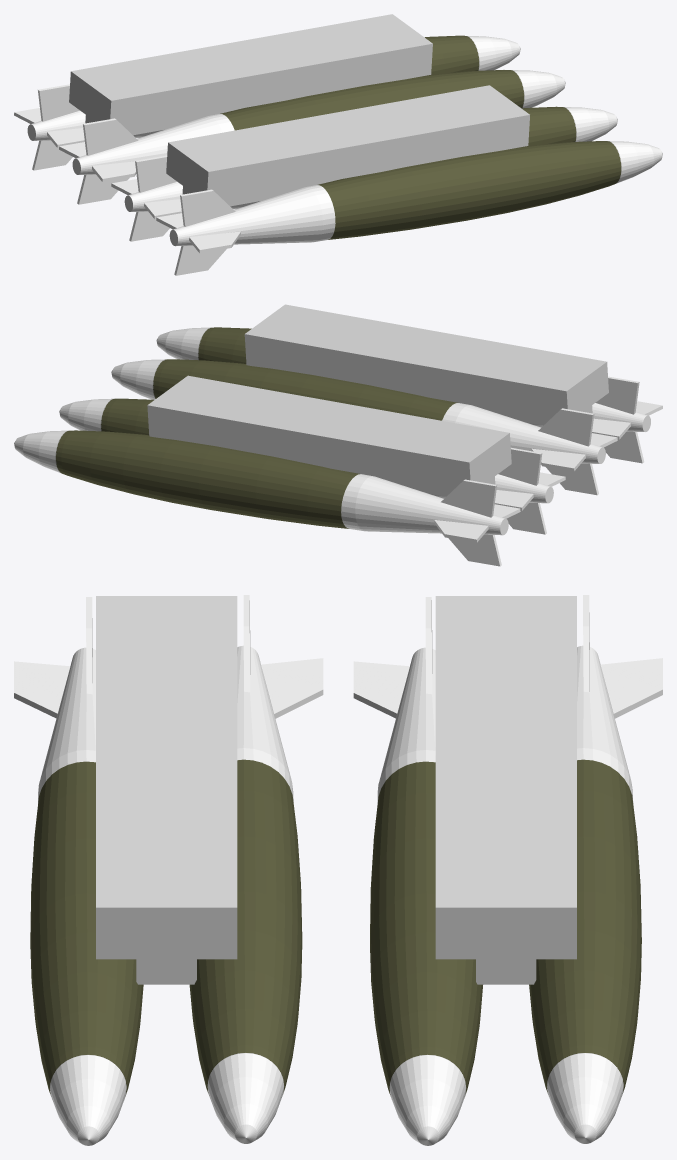
The model's file is f14bgbu3834.glb.
The picture shows the model from 3 angles, top to bottom: view 1: azimuth 30°, elevation 25°; view 2: azimuth 150°, elevation 25°; view 3: azimuth 270°, elevation 25°; orthographic projection. The views are drawn at different scales.
Parts seen in each view (by area): view 1: 円柱.004, 立方体.006, 立方体.003, 円柱.012, 円柱.011, 円柱.003; view 2: 円柱.011, 立方体.006, 立方体.003, 円柱.003, 円柱.004, 円柱.012; view 3: 立方体.003, 立方体.006, 円柱.012, 円柱.004, 円柱.003, 円柱.011.
Boxes of the visible parts, left/top/right/bottom form: 円柱.004: left=156, top=141, right=662, bottom=275; 立方体.006: left=69, top=14, right=432, bottom=135; 立方体.003: left=166, top=85, right=529, bottom=206; 円柱.012: left=59, top=70, right=565, bottom=204; 円柱.011: left=14, top=35, right=520, bottom=170; 円柱.003: left=111, top=106, right=617, bottom=241; 円柱.011: left=14, top=430, right=520, bottom=566; 立方体.006: left=147, top=375, right=511, bottom=496; 立方体.003: left=244, top=304, right=608, bottom=425; 円柱.003: left=111, top=359, right=617, bottom=495; 円柱.004: left=156, top=327, right=662, bottom=463; 円柱.012: left=59, top=398, right=565, bottom=534; 立方体.003: left=96, top=596, right=237, bottom=984; 立方体.006: left=435, top=596, right=576, bottom=984; 円柱.012: left=353, top=597, right=482, bottom=1145; 円柱.004: left=14, top=597, right=143, bottom=1145; 円柱.003: left=189, top=595, right=323, bottom=1143; 円柱.011: left=529, top=595, right=662, bottom=1143.
Bounding box in the file's own units: 2.41 × 0.5122 × 1.58.
Materials: 4 (1 with a texture image).
